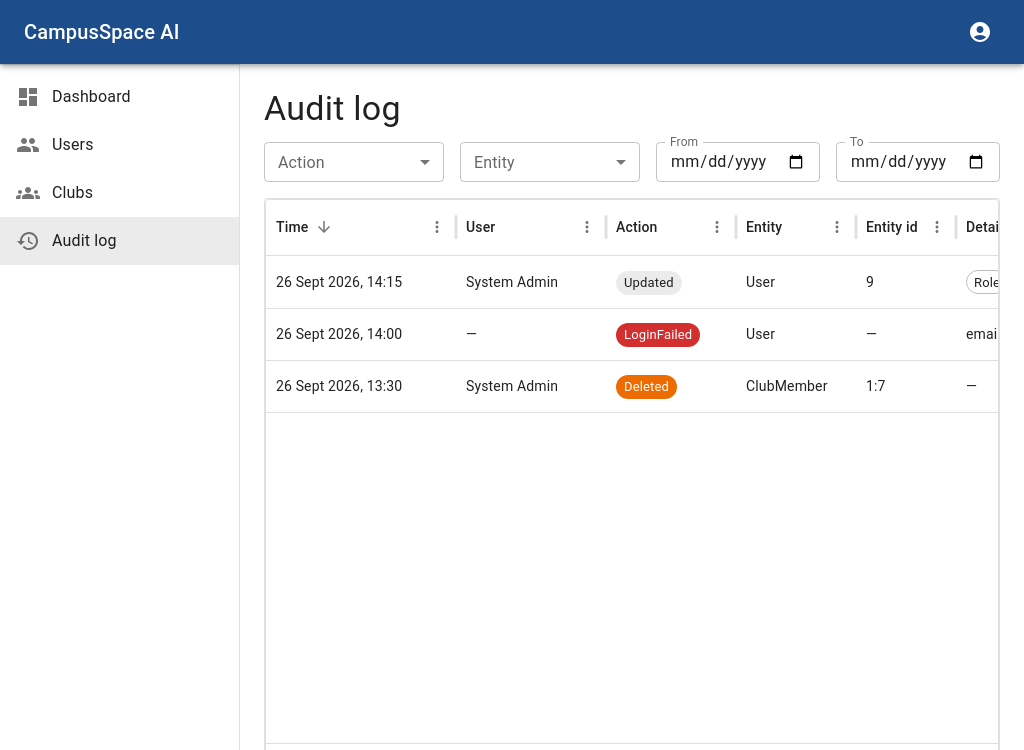
Test: AuditLogsPage › filters by action
This screenshot has width=1024, height=750.
Expected: the text "Updated" is shown, 624,275 -> 674,290
Step 1. Click the 1st dropdown named "Action" → (354, 162), box 264,142 -> 444,182
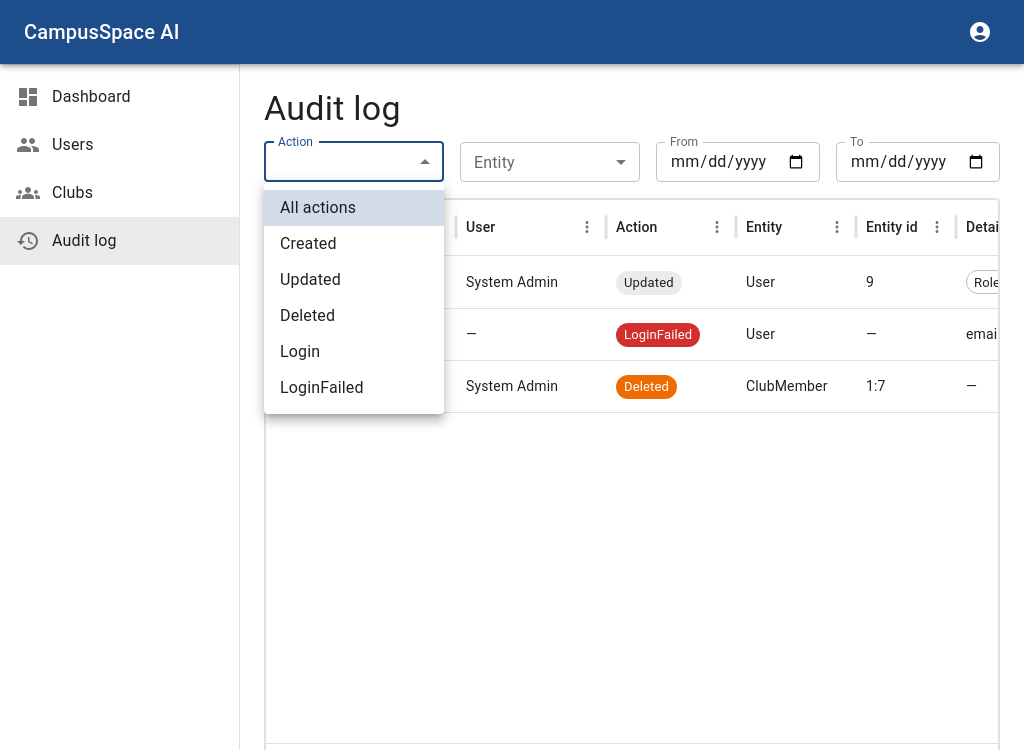
Step 2. Click the option "LoginFailed" → (322, 388), box 280,378 -> 364,397
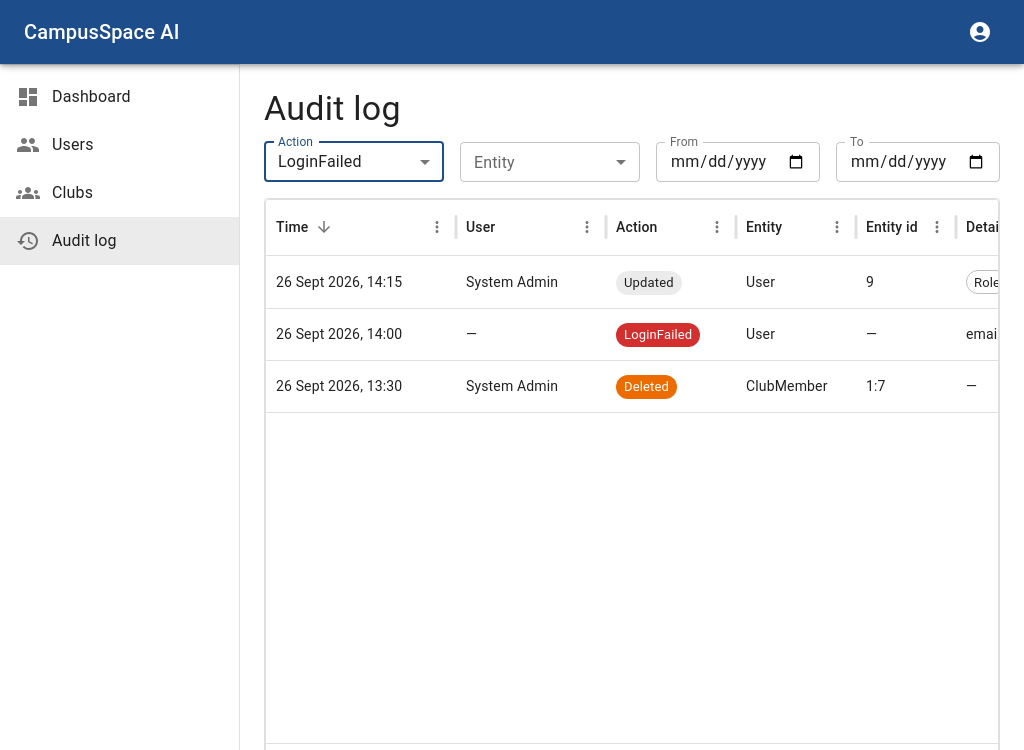
Expected: the dropdown named "Action" reads "LoginFailed", 278,152 -> 362,171
